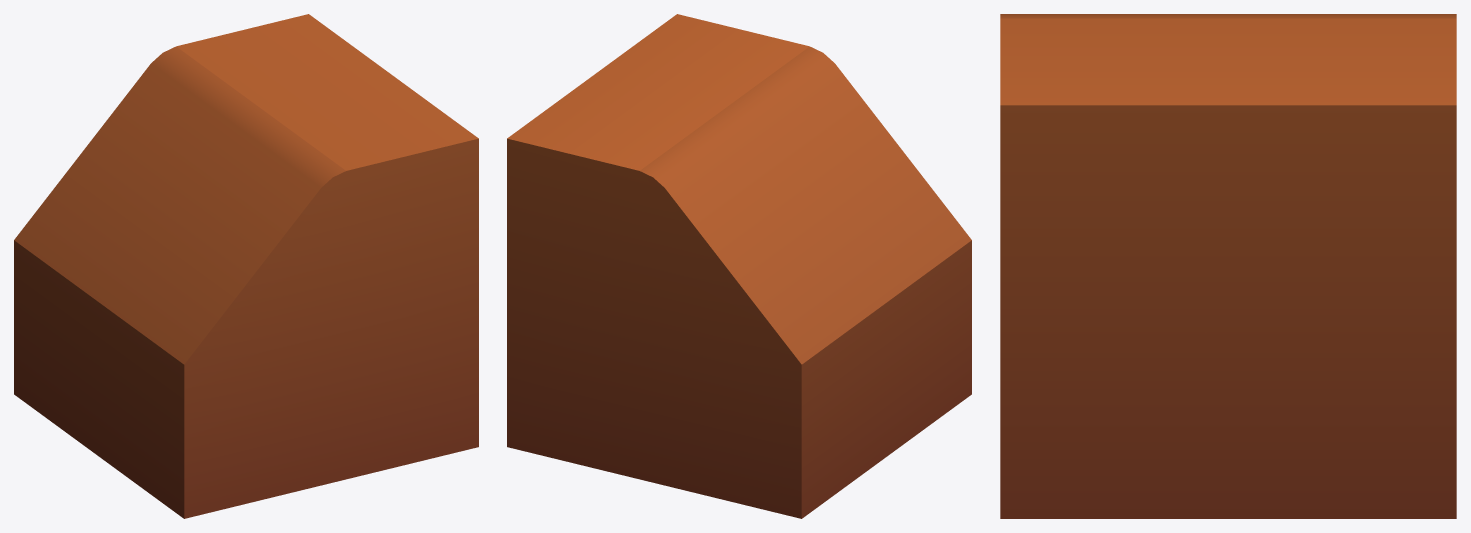
The model's file is space-terrain-slope.glb.
3 views of the same model, side by side, from view 1: azimuth 30°, elevation 25°; view 2: azimuth 150°, elevation 25°; view 3: azimuth 270°, elevation 25° (orthographic). The views are drawn at different scales.
Parts seen in each view (by area): view 1: terrain_slope; view 2: terrain_slope; view 3: terrain_slope.
Part boxes in pixels (x1,y1,x2,y2): terrain_slope: [14, 14, 478, 518]; terrain_slope: [507, 14, 971, 518]; terrain_slope: [1000, 14, 1456, 518].
Bounding box in the file's own units: 2 × 2 × 2.
